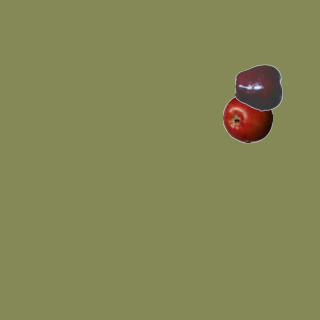Apple Braeburn: (222, 93, 272, 143)
Apple Red Delicious: (234, 62, 284, 112)
